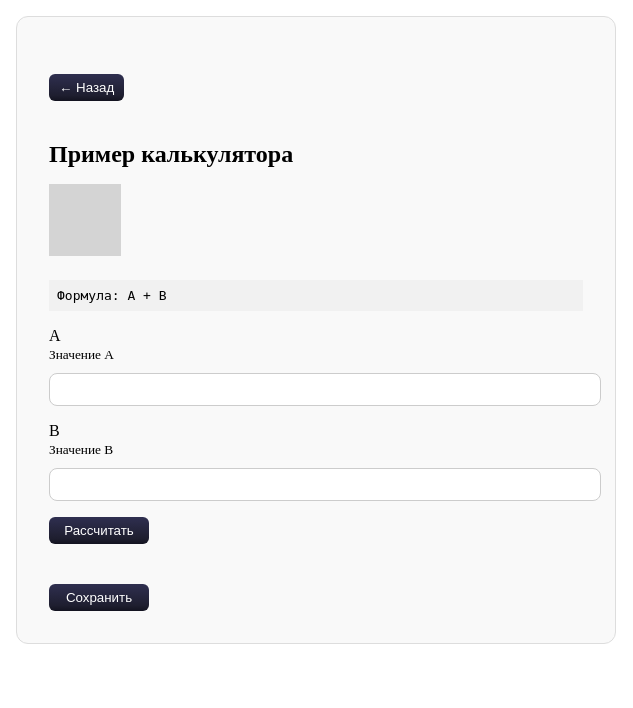
Calculator component › выполняет расчет при вводе значений и нажатии на кнопку
This screenshot has width=633, height=708.
In the number field labelled "A": (325, 390) [49,373,601,406], type "5"
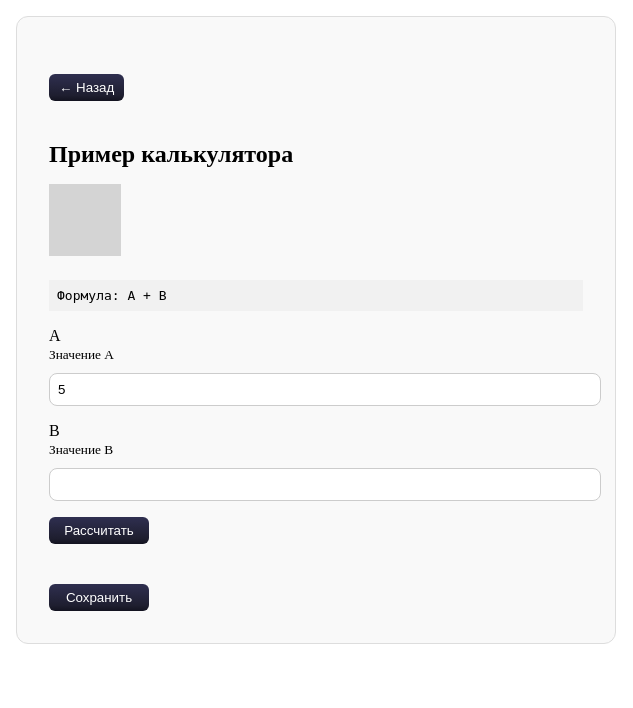
In the number field labelled "B": (325, 484) [49,468,601,501], type "3"
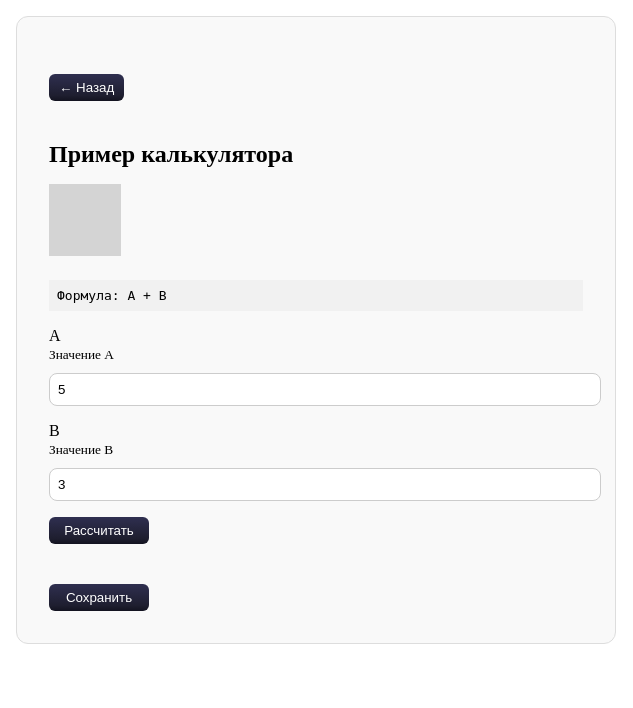
Click the button "Рассчитать": (99, 530) [49,517,149,544]
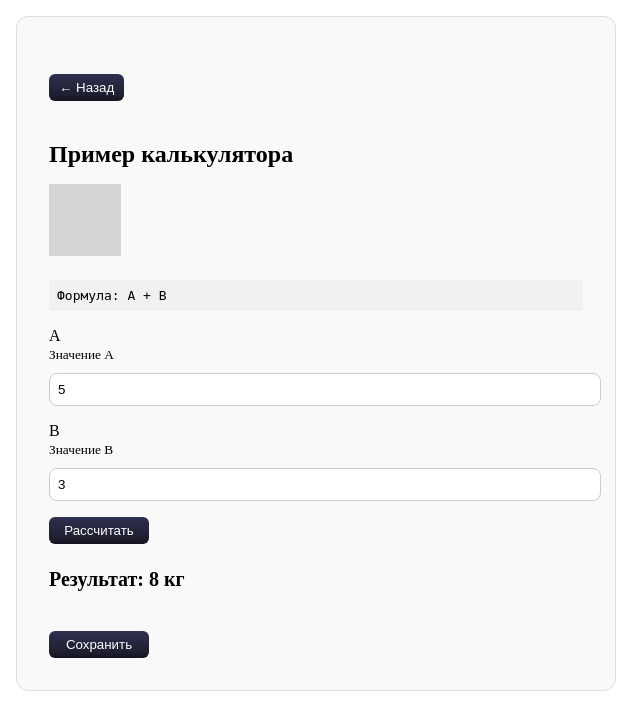
Expected: the text "Результат: 8 кг" is shown, [49,568,185,590]
